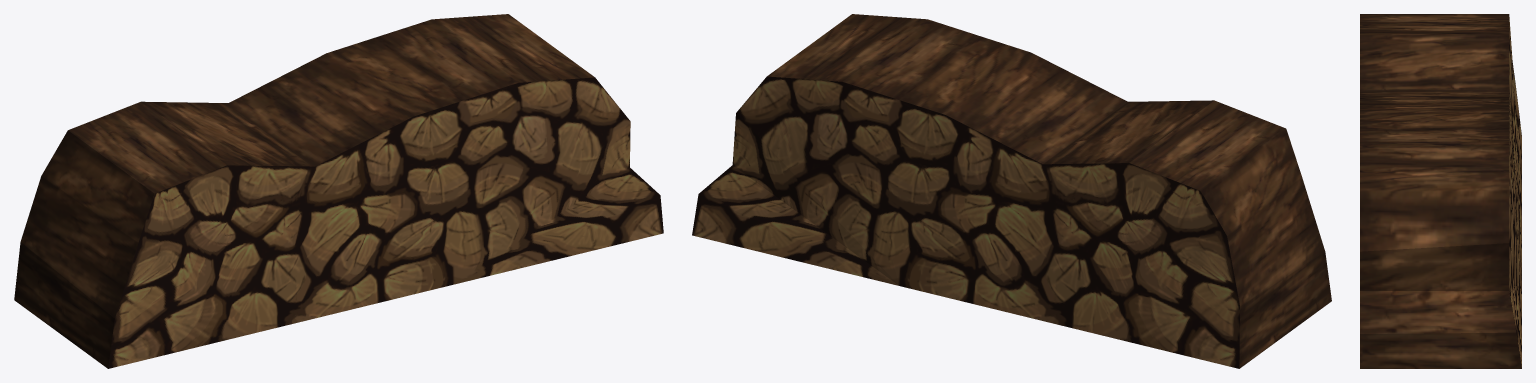
Rendered from fanasty_mod_log_pile.fbx.
The picture shows the model from 3 angles, left to right: view 1: azimuth 30°, elevation 25°; view 2: azimuth 150°, elevation 25°; view 3: azimuth 270°, elevation 25°; orthographic projection. The views are drawn at different scales.
Parts seen in each view (by area): view 1: log_pile; view 2: log_pile; view 3: log_pile.
Part boxes in pixels (<box>): log_pile: <box>14,14,663,368</box>; log_pile: <box>692,14,1331,368</box>; log_pile: <box>1360,14,1521,368</box>.
Bounding box in the file's own units: 3.53 × 1.13 × 1.03.
